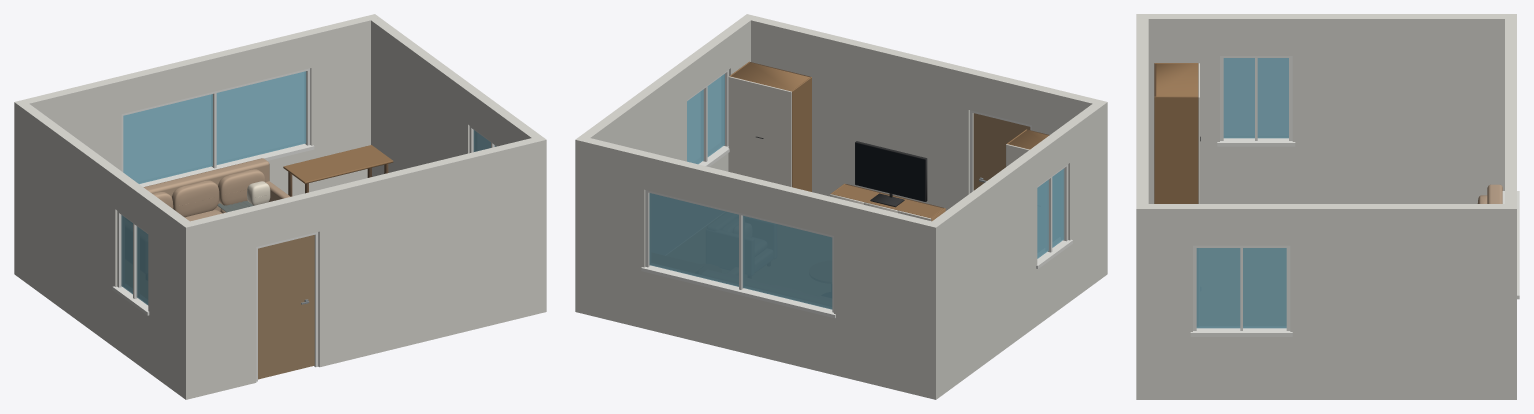
Rendered from oursv11b.glb.
3 renders of one model, left to right at view 1: azimuth 30°, elevation 25°; view 2: azimuth 150°, elevation 25°; view 3: azimuth 270°, elevation 25°, orthographic. The views are drawn at different scales.
Parts seen in each view (by area): view 1: wall|scenesmith_068__R00|0, wall|scenesmith_068__R00|2, wall|scenesmith_068__R00|1, wall|scenesmith_068__R00|3, wall|scenesmith_068__R00|1 Window 0 | glazing, wall|scenesmith_068__R00|0 Door 0 | wood leaf, Back upholstered shell, wall|scenesmith_068__R00|1 Window 0 | jamb, Bay divider, wall|scenesmith_068__R00|2 Window 0 | glazing, wall|scenesmith_068__R00|2 Window 0 | jamb, wall|scenesmith_068__R00|0 Door 0 | jamb (+1 smaller); view 2: wall|scenesmith_068__R00|1, wall|scenesmith_068__R00|0, wall|scenesmith_068__R00|2, wall|scenesmith_068__R00|1 Window 0 | glazing, wall|scenesmith_068__R00|3, Door panel, Bay divider, Display image, wall|scenesmith_068__R00|1 Window 0 | jamb, wall|scenesmith_068__R00|3 Window 0 | glazing, wall|scenesmith_068__R00|0 Door 0 | wood leaf, wall|scenesmith_068__R00|2 Window 0 | glazing (+4 smaller); view 3: wall|scenesmith_068__R00|3, wall|scenesmith_068__R00|2, wall|scenesmith_068__R00|3 Window 0 | glazing, Bay divider, wall|scenesmith_068__R00|2 Window 0 | glazing, wall|scenesmith_068__R00|0, wall|scenesmith_068__R00|1, wall|scenesmith_068__R00|3 Window 0 | jamb, wall|scenesmith_068__R00|2 Window 0 | jamb, Back upholstered shell, wall|scenesmith_068__R00|1 Window 0 | jamb.
Boxes of the visible parts, x1=… form: wall|scenesmith_068__R00|0: x1=180, y1=138, x2=537, y2=399; wall|scenesmith_068__R00|2: x1=14, y1=99, x2=195, y2=399; wall|scenesmith_068__R00|1: x1=14, y1=14, x2=379, y2=277; wall|scenesmith_068__R00|3: x1=371, y1=18, x2=546, y2=313; wall|scenesmith_068__R00|1 Window 0 | glazing: x1=123, y1=71, x2=306, y2=183; wall|scenesmith_068__R00|0 Door 0 | wood leaf: x1=258, y1=235, x2=314, y2=379; Back upholstered shell: x1=143, y1=158, x2=290, y2=221; wall|scenesmith_068__R00|1 Window 0 | jamb: x1=121, y1=68, x2=314, y2=186; Bay divider: x1=283, y1=145, x2=393, y2=183; wall|scenesmith_068__R00|2 Window 0 | glazing: x1=121, y1=215, x2=148, y2=305; wall|scenesmith_068__R00|2 Window 0 | jamb: x1=112, y1=211, x2=149, y2=315; wall|scenesmith_068__R00|0 Door 0 | jamb: x1=256, y1=232, x2=318, y2=381; wall|scenesmith_068__R00|1: x1=575, y1=136, x2=941, y2=399; wall|scenesmith_068__R00|0: x1=751, y1=16, x2=1107, y2=277; wall|scenesmith_068__R00|2: x1=927, y1=99, x2=1107, y2=395; wall|scenesmith_068__R00|1 Window 0 | glazing: x1=649, y1=193, x2=832, y2=309; wall|scenesmith_068__R00|3: x1=581, y1=14, x2=755, y2=171; Door panel: x1=728, y1=76, x2=1029, y2=220; Bay divider: x1=729, y1=61, x2=1048, y2=221; Display image: x1=855, y1=143, x2=925, y2=201; wall|scenesmith_068__R00|1 Window 0 | jamb: x1=641, y1=190, x2=835, y2=318; wall|scenesmith_068__R00|3 Window 0 | glazing: x1=687, y1=74, x2=724, y2=164; wall|scenesmith_068__R00|0 Door 0 | wood leaf: x1=973, y1=113, x2=1030, y2=190; wall|scenesmith_068__R00|2 Window 0 | glazing: x1=1037, y1=168, x2=1064, y2=258; wall|scenesmith_068__R00|3: x1=1136, y1=204, x2=1504, y2=399; wall|scenesmith_068__R00|2: x1=1136, y1=14, x2=1516, y2=203; wall|scenesmith_068__R00|3 Window 0 | glazing: x1=1196, y1=248, x2=1286, y2=328; Bay divider: x1=1154, y1=63, x2=1198, y2=203; wall|scenesmith_068__R00|2 Window 0 | glazing: x1=1223, y1=58, x2=1288, y2=138; wall|scenesmith_068__R00|0: x1=1136, y1=19, x2=1148, y2=399; wall|scenesmith_068__R00|1: x1=1505, y1=19, x2=1516, y2=399; wall|scenesmith_068__R00|3 Window 0 | jamb: x1=1190, y1=245, x2=1292, y2=336; wall|scenesmith_068__R00|2 Window 0 | jamb: x1=1217, y1=56, x2=1295, y2=146; Back upholstered shell: x1=1477, y1=184, x2=1502, y2=203; wall|scenesmith_068__R00|1 Window 0 | jamb: x1=1502, y1=191, x2=1519, y2=299.
Size of the model in its own units: 5.76 by 2.61 by 4.73.
